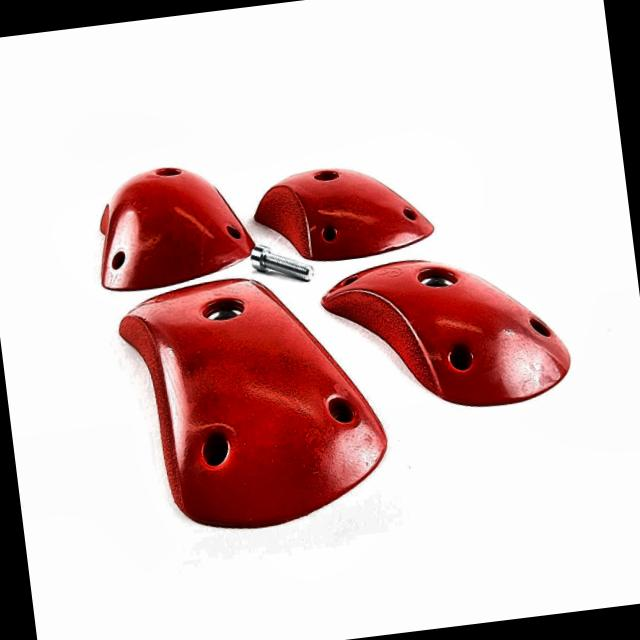Hold: (109, 268, 394, 540), (320, 252, 578, 424), (90, 150, 254, 290), (250, 149, 434, 268)
